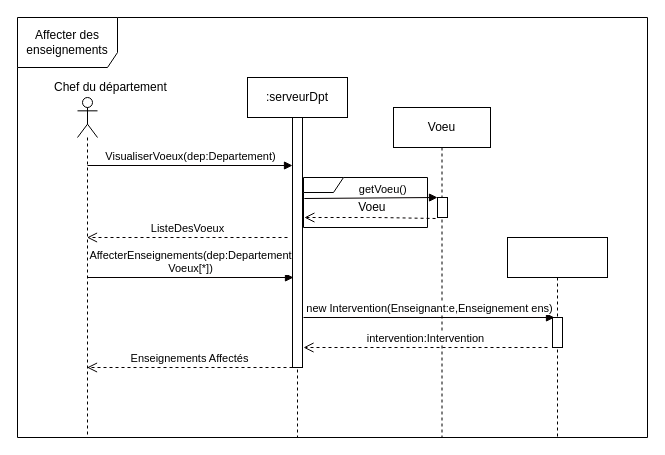
Some shapes in this 665 by 455 pixel diagram are drawn without their labels. The centre of each missing label's shape, as x and y in pixels:
":InterventionDept" goes at (x=557, y=337).
"Loop" goes at (x=365, y=202).
